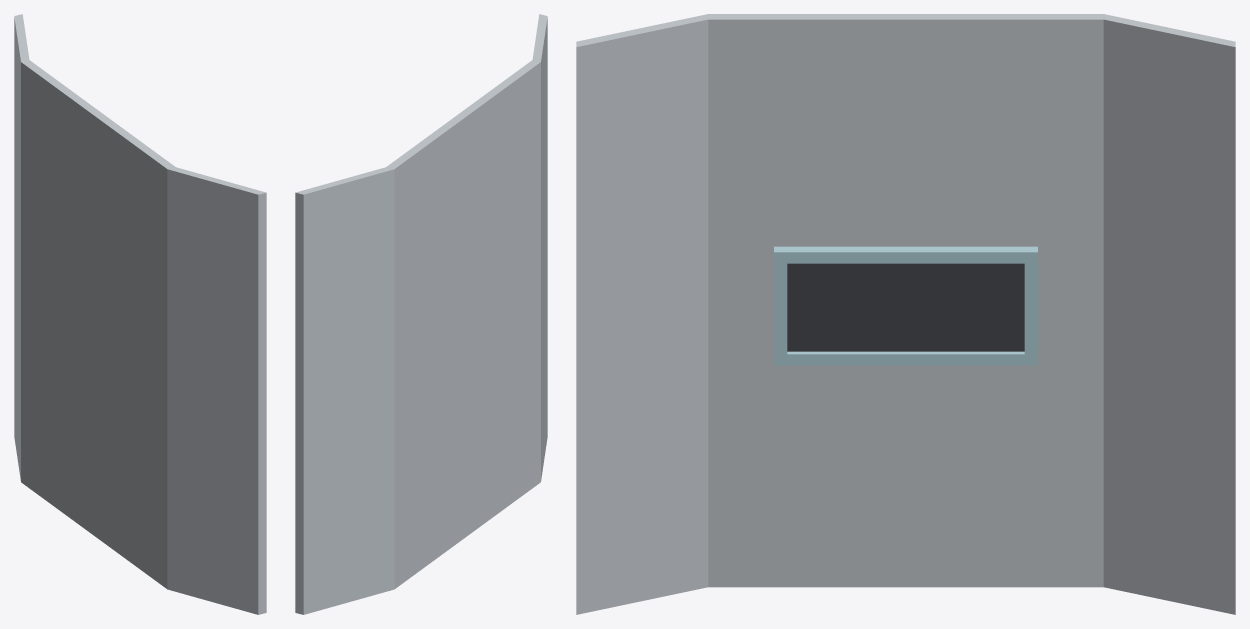
Rendered from wall-03a.fbx.
The picture shows the model from 3 angles, left to right: view 1: azimuth 30°, elevation 25°; view 2: azimuth 150°, elevation 25°; view 3: azimuth 270°, elevation 25°; orthographic projection. The views are drawn at different scales.
Visible parts, largest first — view 1: wall-03a; view 2: wall-03a; view 3: wall-03a.
Part boxes in pixels (bbox=[...]): wall-03a: bbox=[14, 14, 266, 614]; wall-03a: bbox=[295, 14, 547, 614]; wall-03a: bbox=[576, 14, 1235, 614].
Bounding box in the file's own units: 11.94 × 95 × 100.
